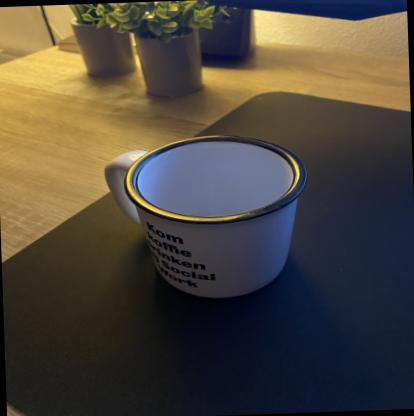Cup: (102, 129, 314, 306)
